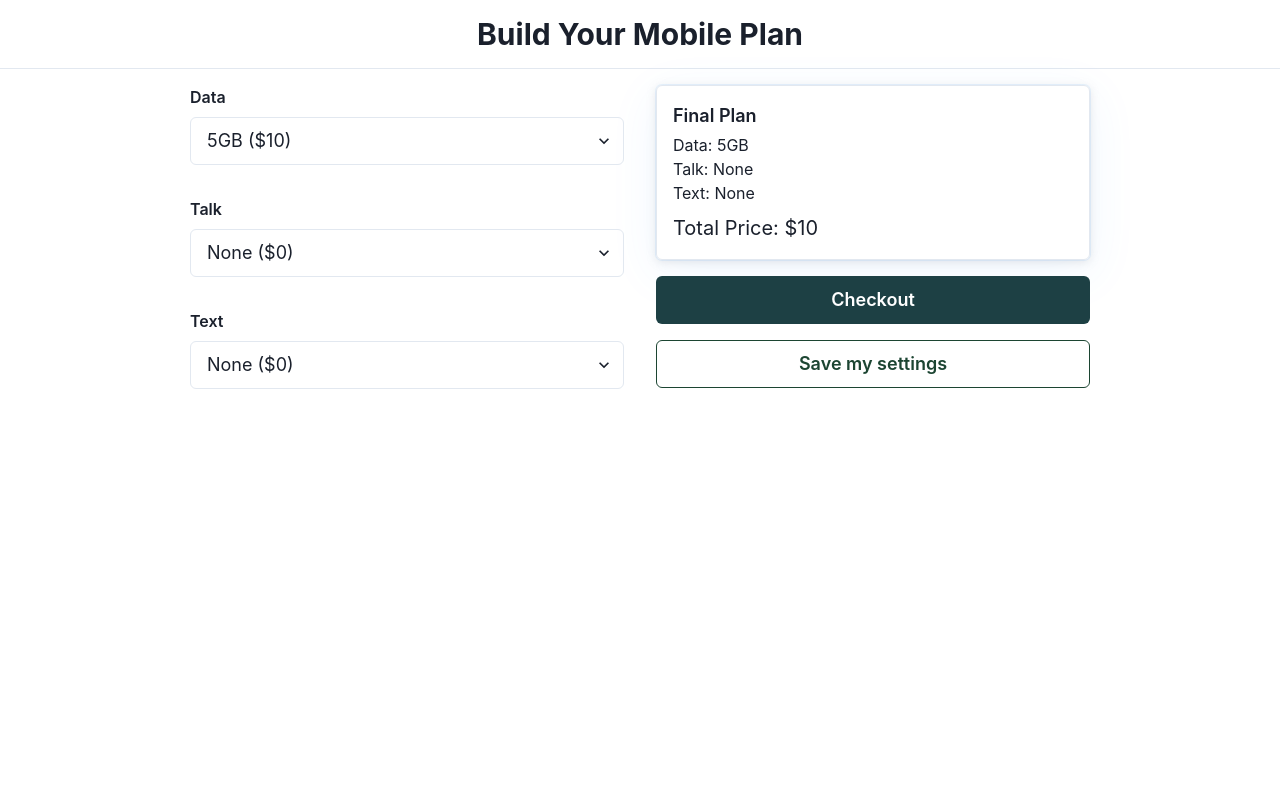
Scenario: Mobile Plan Builder › opens the checkout modal and confirms the plan selection
Click the button with test id "checkout-button". click: coordinates (873, 300)
box: [656,276,1090,324]
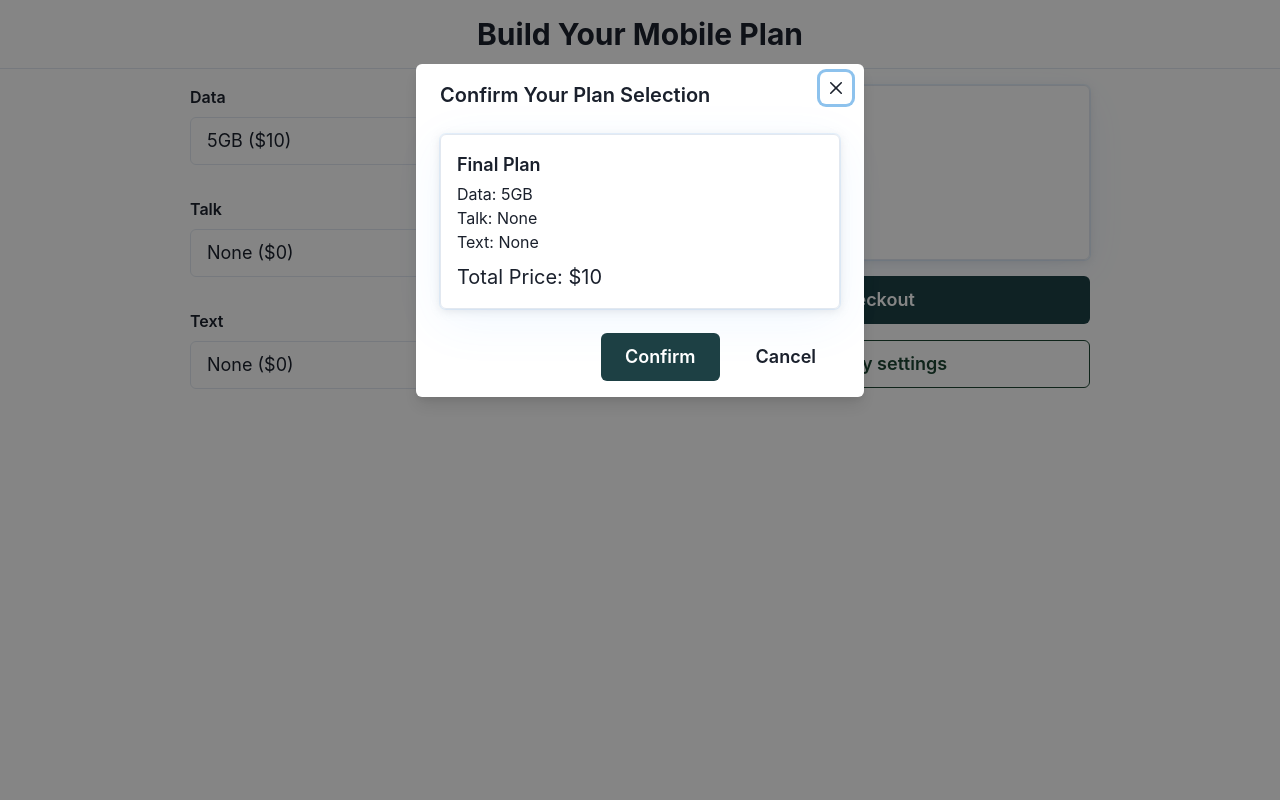
Expected: the dialog with test id "checkout-modal" is shown, [416,64,864,397]
Expected: the header with test id "checkout-modal-header" is shown, [440,83,710,107]
